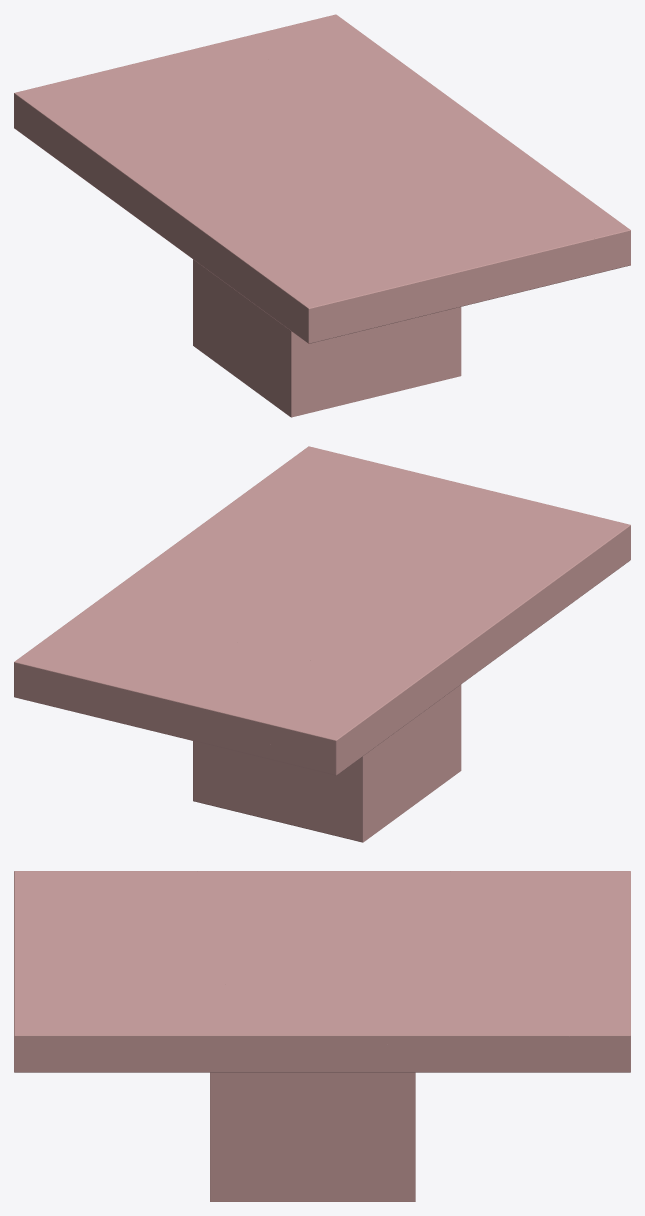
3 views of the same model, one above another, from view 1: azimuth 30°, elevation 25°; view 2: azimuth 150°, elevation 25°; view 3: azimuth 270°, elevation 25° (orthographic). The views are drawn at different scales.
Parts seen in each view (by area): view 1: 303465_23_06_20_11_05_27_1; view 2: 303465_23_06_20_11_05_27_1; view 3: 303465_23_06_20_11_05_27_1.
Boxes of the visible parts, x1,y1,x2,y2 form: 303465_23_06_20_11_05_27_1: (14,14,630,417); 303465_23_06_20_11_05_27_1: (14,446,630,842); 303465_23_06_20_11_05_27_1: (14,871,630,1201).
Bounding box in the file's own units: 0.3788 × 0.2203 × 0.6.
Materials: 1 (1 with a texture image).
